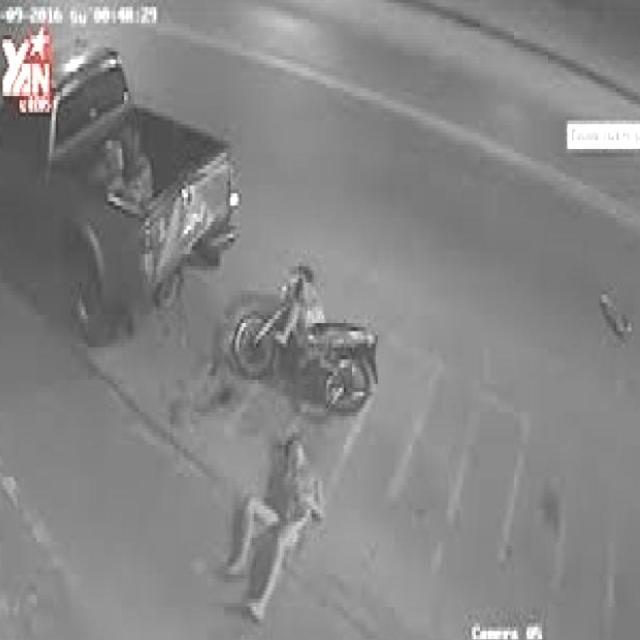accident: (230, 249, 387, 441), (123, 178, 264, 298)
